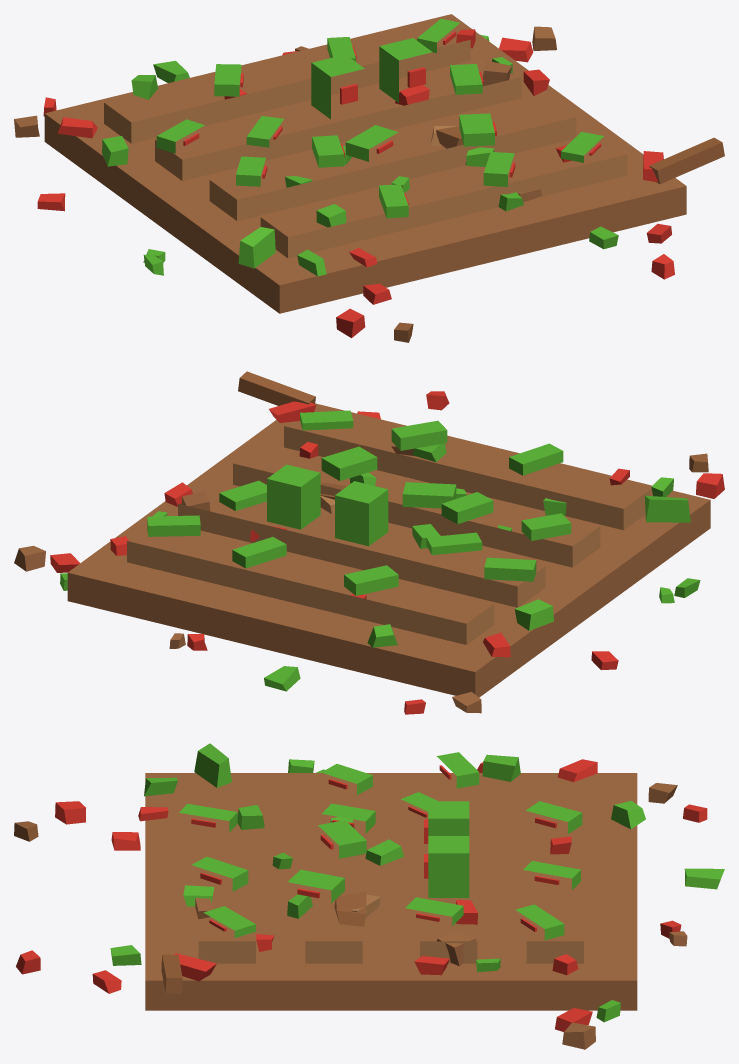
The model's file is field_t1_v4_dmg2.glb.
3 views of the same model, one above another, from view 1: azimuth 30°, elevation 25°; view 2: azimuth 150°, elevation 25°; view 3: azimuth 270°, elevation 25° (orthographic). The views are drawn at different scales.
Visible parts, largest first — view 1: field_t1_v4_dmg2; view 2: field_t1_v4_dmg2; view 3: field_t1_v4_dmg2.
Part boxes in pixels (left/top/right/bottom): field_t1_v4_dmg2: left=14, top=14, right=724, bottom=342; field_t1_v4_dmg2: left=14, top=371, right=724, bottom=714; field_t1_v4_dmg2: left=14, top=743, right=724, bottom=1049.
Size of the model in its own units: 0.8261 by 0.13 by 0.8672.
1 material, 1 textured.
